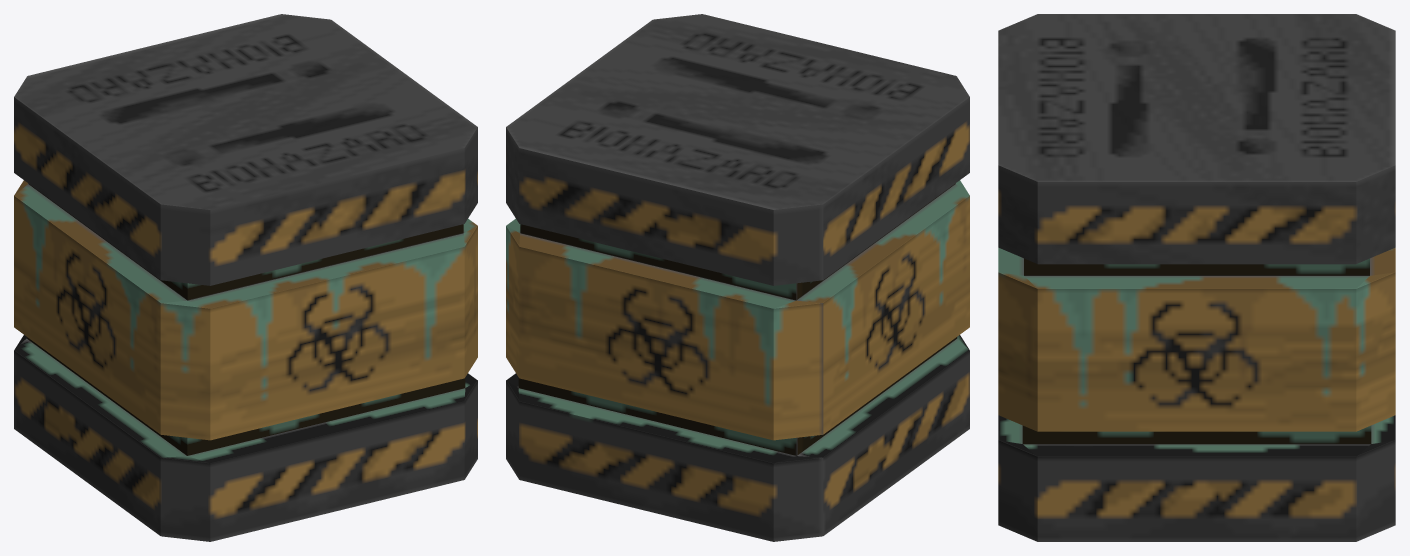
The model's file is obj_crate.fbx.
The picture shows the model from 3 angles, left to right: view 1: azimuth 30°, elevation 25°; view 2: azimuth 150°, elevation 25°; view 3: azimuth 270°, elevation 25°; orthographic projection. The views are drawn at different scales.
Parts seen in each view (by area): view 1: obj_crate; view 2: obj_crate; view 3: obj_crate.
Boxes of the visible parts, <box> form: obj_crate: <box>14,14,477,541</box>; obj_crate: <box>506,14,969,541</box>; obj_crate: <box>998,14,1395,541</box>.
Bounding box in the file's own units: 96.04 × 96.04 × 96.04.
